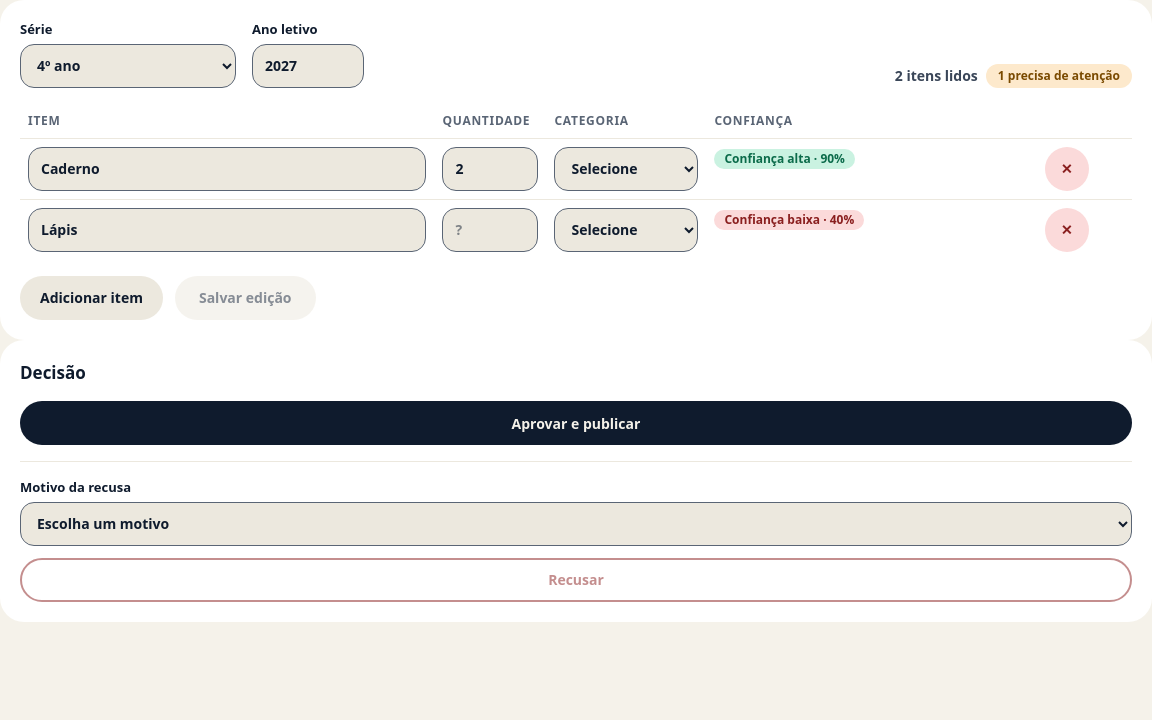
Test: DecisionPanel › resultado unavailable
Click the button "Aprovar e publicar". click: (576, 423)
box: top-left (20, 401), bottom-right (1132, 445)
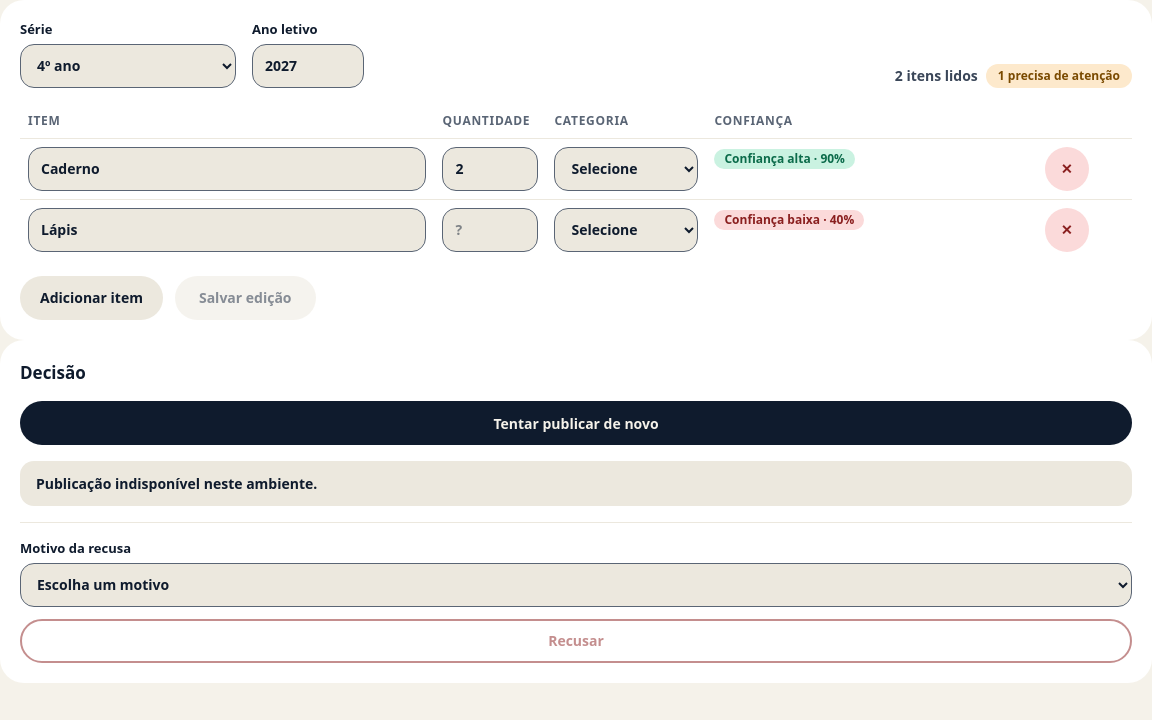
Check: the message reads "Publicação indisponível neste ambiente.", box top-left (36, 474), bottom-right (317, 493)
Check: the button "Tentar publicar de novo" is shown, box top-left (20, 401), bottom-right (1132, 445)
